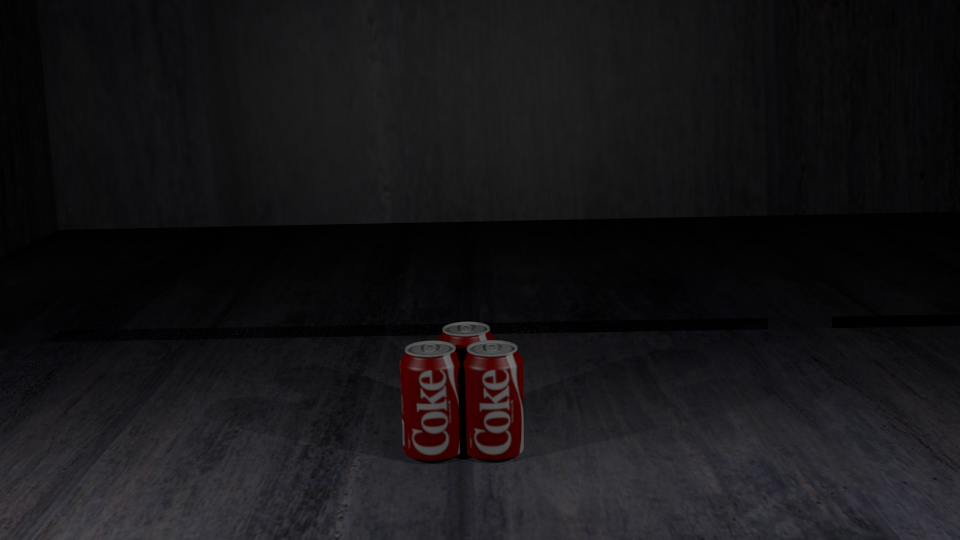cola_can: (400, 341, 461, 457), (462, 341, 522, 456), (438, 322, 494, 432)
